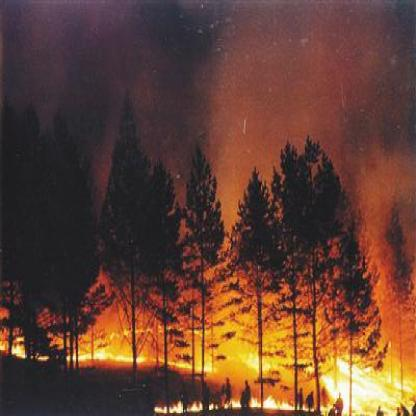fire: (4, 275, 390, 413)
